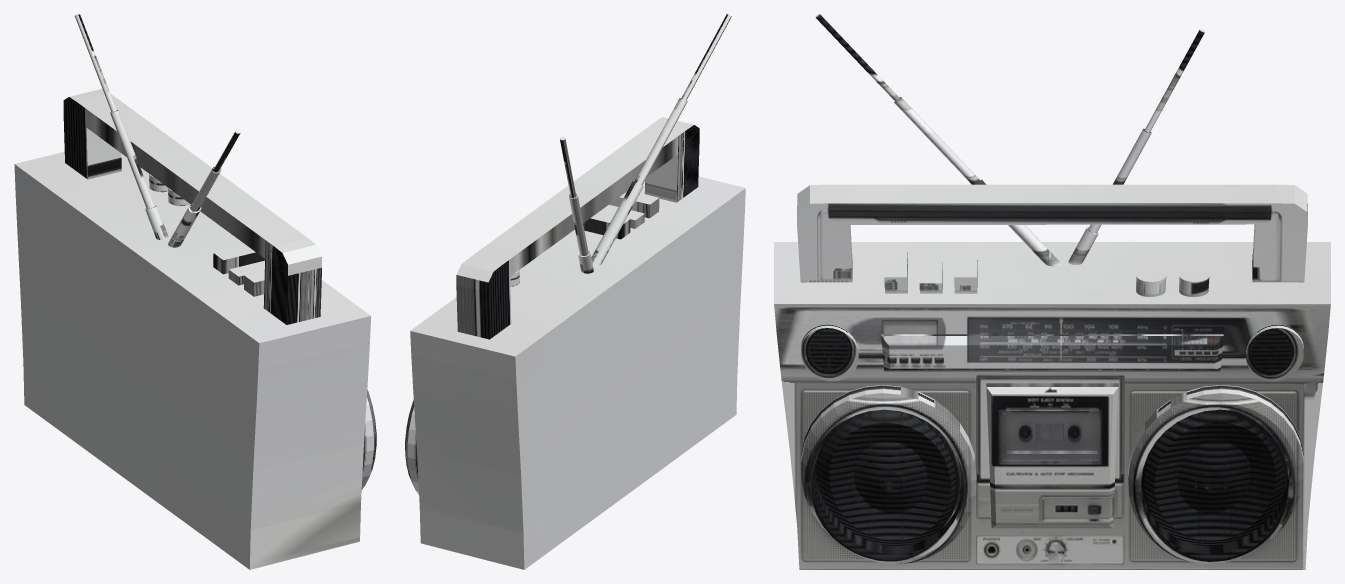
Rendered from boombox-w-texture.glb.
The picture shows the model from 3 angles, left to right: view 1: azimuth 30°, elevation 25°; view 2: azimuth 150°, elevation 25°; view 3: azimuth 270°, elevation 25°; orthographic projection. The views are drawn at different scales.
Visible parts, largest first — view 1: Cube.006; view 2: Cube.006; view 3: Cube.006.
Boxes of the visible parts, <box> form: Cube.006: <box>14,14,376,569</box>; Cube.006: <box>405,14,745,569</box>; Cube.006: <box>774,14,1330,569</box>.
Size of the model in its own units: 1.23 by 3.71 by 3.8.
1 material, 1 textured.
